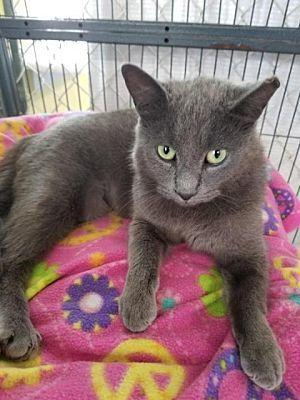rblue: (107, 55, 289, 223)
